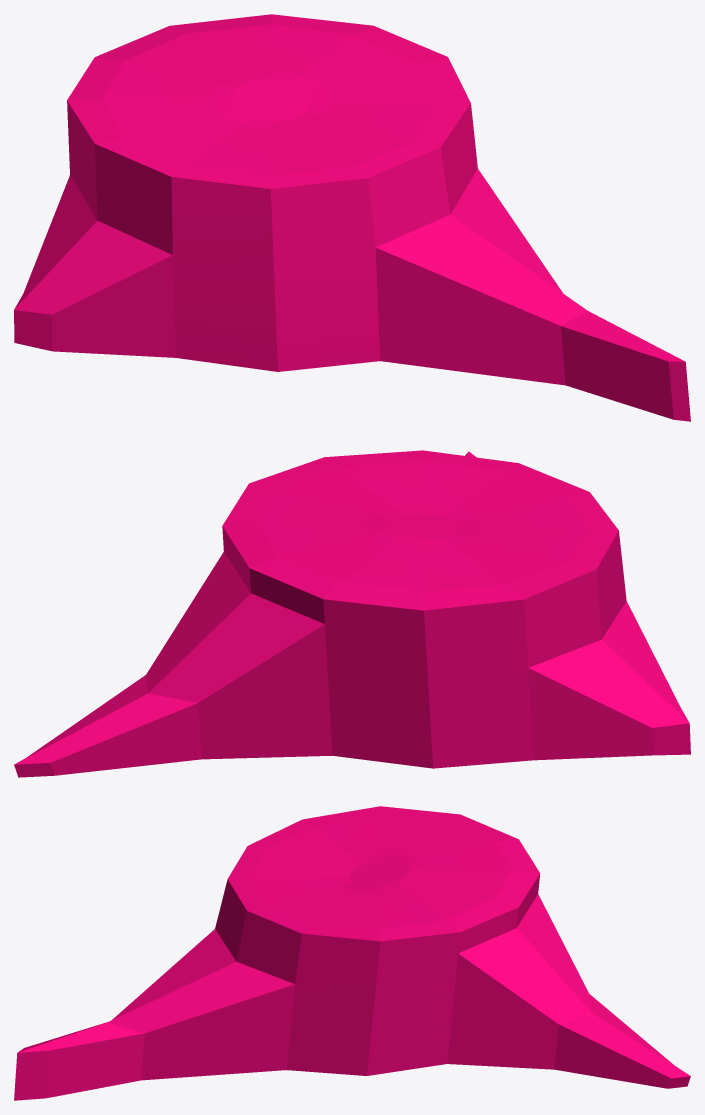
Rendered from SM_SS_Stump_1.fbx.
3 views of the same model, one above another, from view 1: azimuth 30°, elevation 25°; view 2: azimuth 150°, elevation 25°; view 3: azimuth 270°, elevation 25° (orthographic). The views are drawn at different scales.
Parts seen in each view (by area): view 1: SM_SS_Stump_1; view 2: SM_SS_Stump_1; view 3: SM_SS_Stump_1.
Part boxes in pixels (left/top/right/bottom): SM_SS_Stump_1: left=14, top=14, right=690, bottom=421; SM_SS_Stump_1: left=14, top=450, right=690, bottom=777; SM_SS_Stump_1: left=14, top=806, right=690, bottom=1100.
Size of the model in its own units: 46.36 by 71.44 by 18.56.
